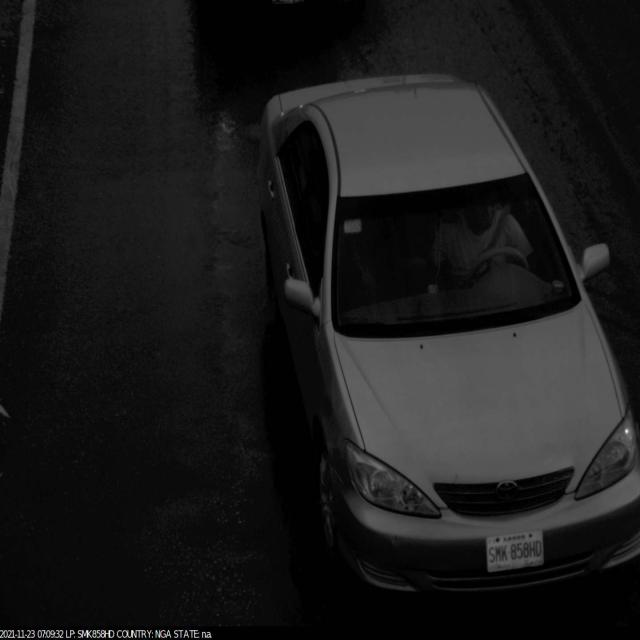windshield: (329, 170, 587, 341)
